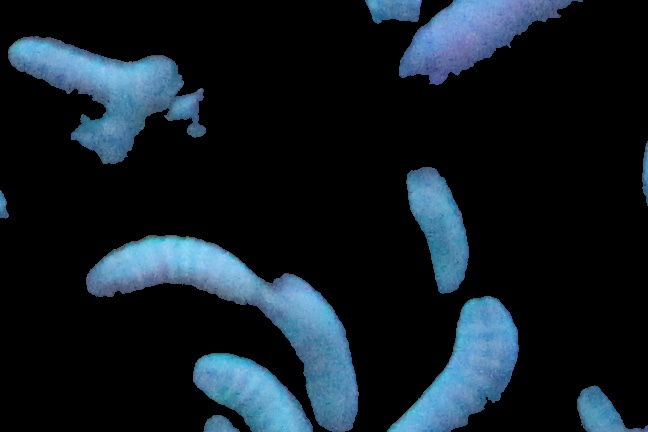larvae: (382, 297, 528, 432), (400, 1, 583, 84), (268, 272, 358, 432), (8, 37, 182, 112), (88, 236, 268, 299), (193, 353, 311, 432), (406, 162, 468, 293)
